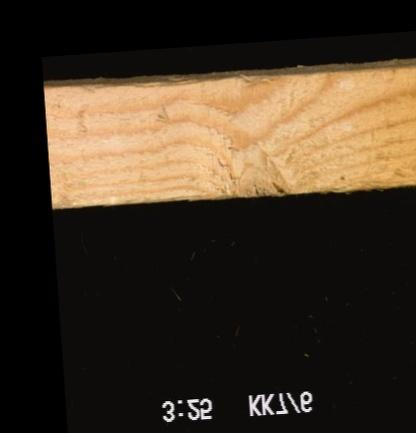edge_knot: (215, 150, 294, 197)
